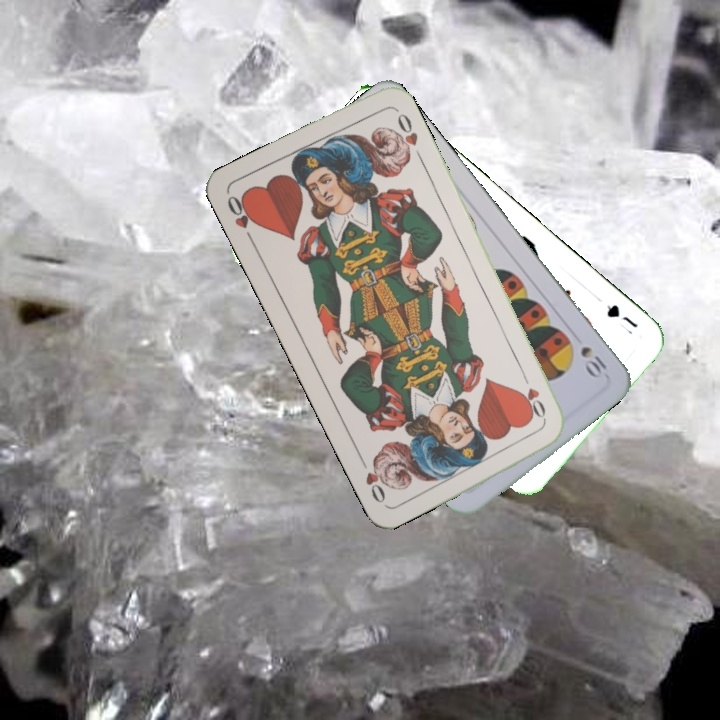GU: (602, 300, 641, 331)
HO: (223, 191, 259, 246), (518, 368, 549, 424)
S10: (576, 342, 610, 379)
